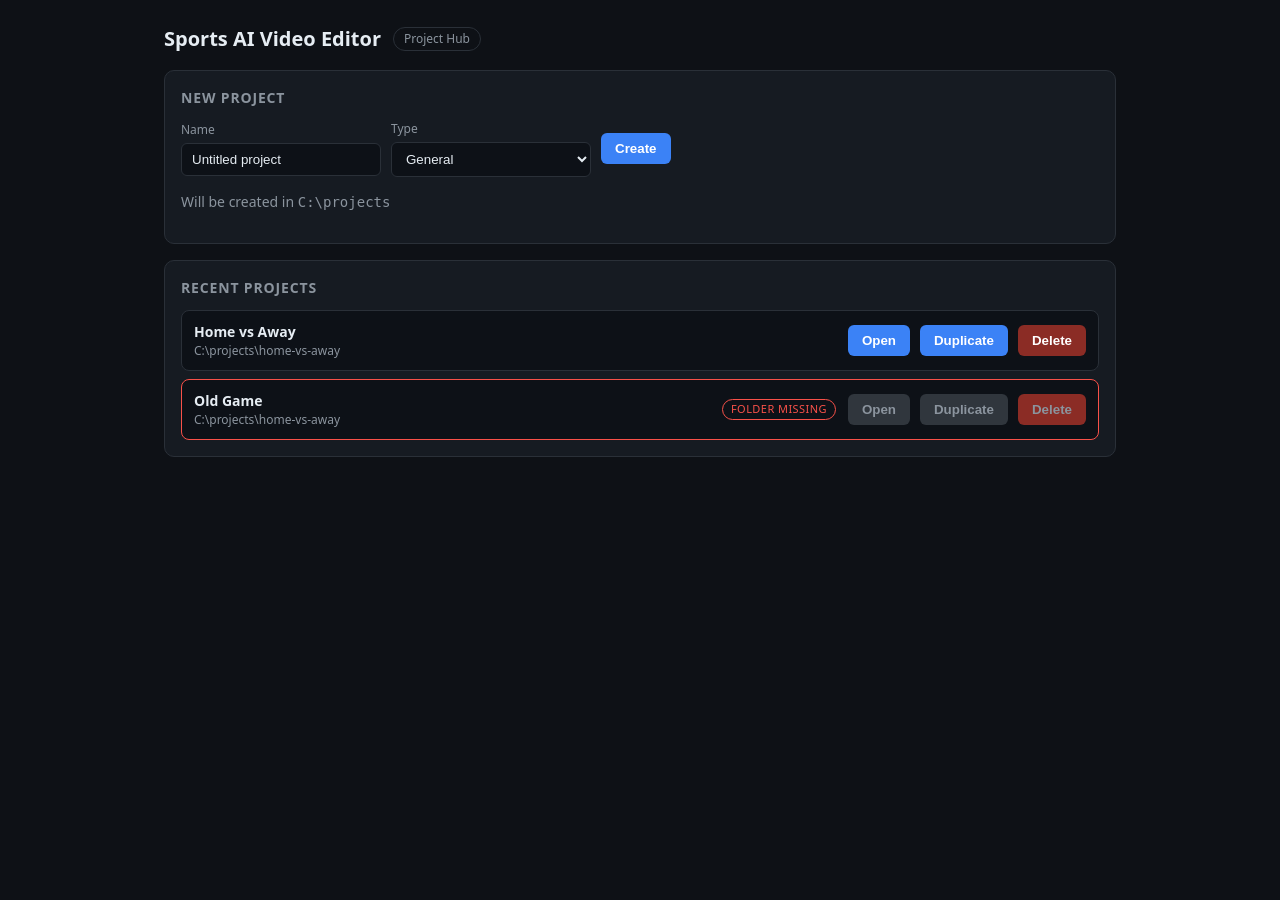
Project Hub › never deletes on a single click — it asks first and names the folder
Expected: the text "Home vs Away" is shown, x1=194 y1=322 x2=296 y2=341
What coordinates should you click on to do the following:
click the button "Delete" in the row of "Home vs Away"
I would click on:
 (1052, 340)
Its box is x1=1018 y1=325 x2=1086 y2=356.
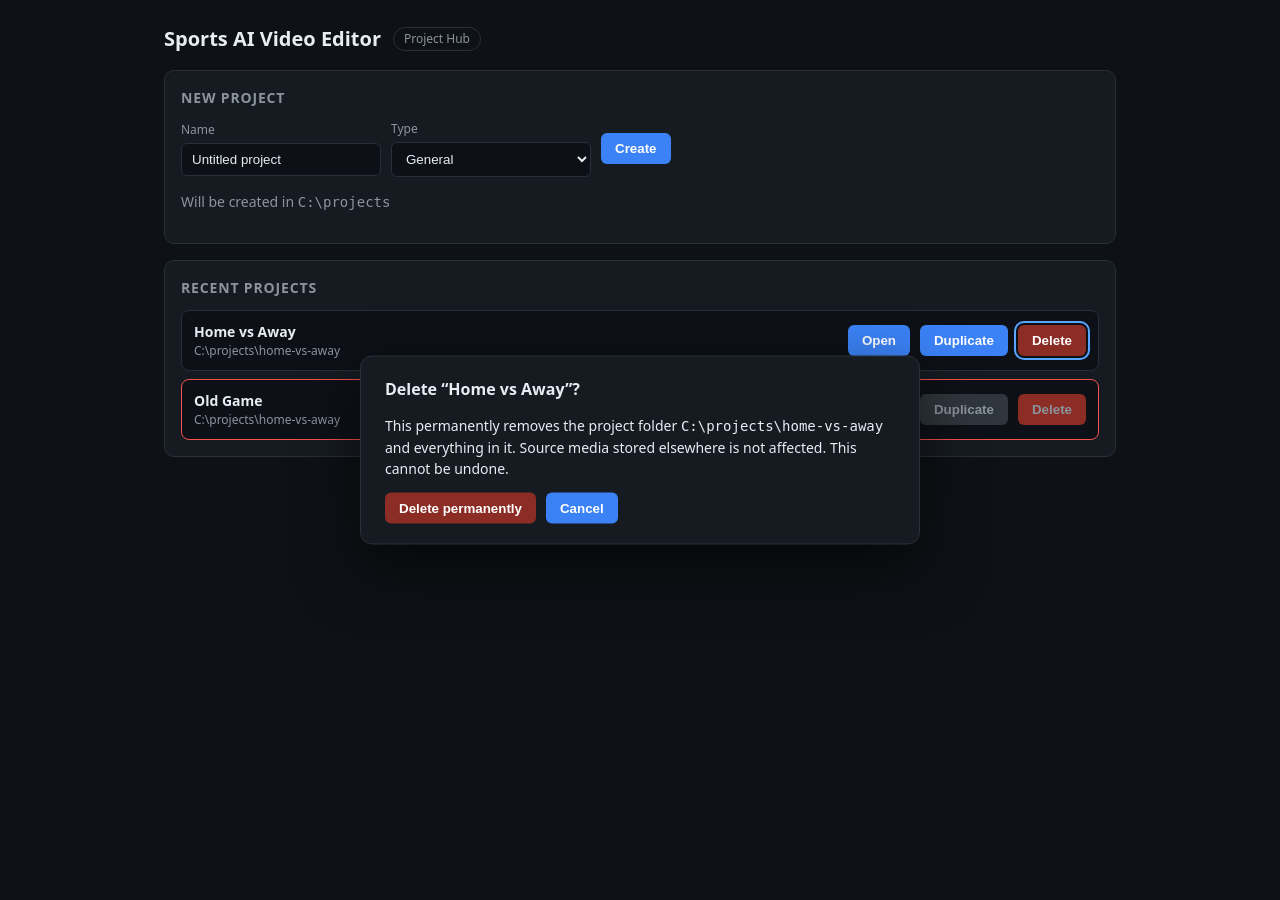
Expected: the dialog shows "C:\\projects\\home-vs-away", x1=681 y1=418 x2=883 y2=434
Expected: the dialog shows "cannot be undone", x1=385 y1=438 x2=857 y2=478
